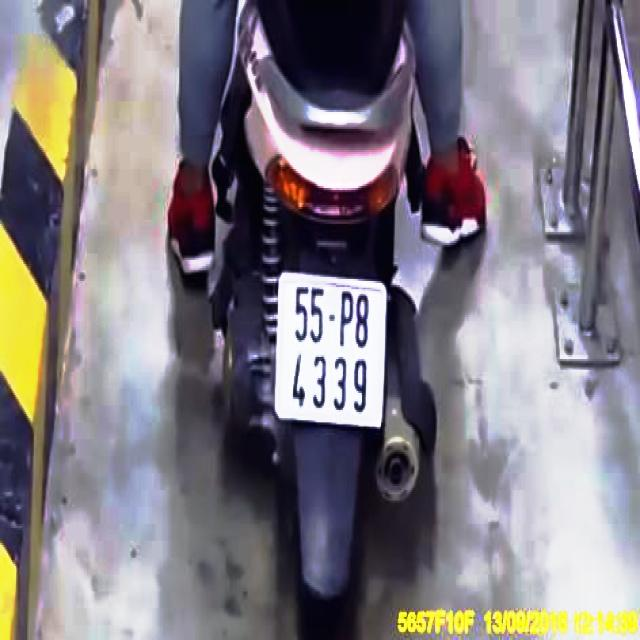license_plate: (277, 270, 391, 430)
